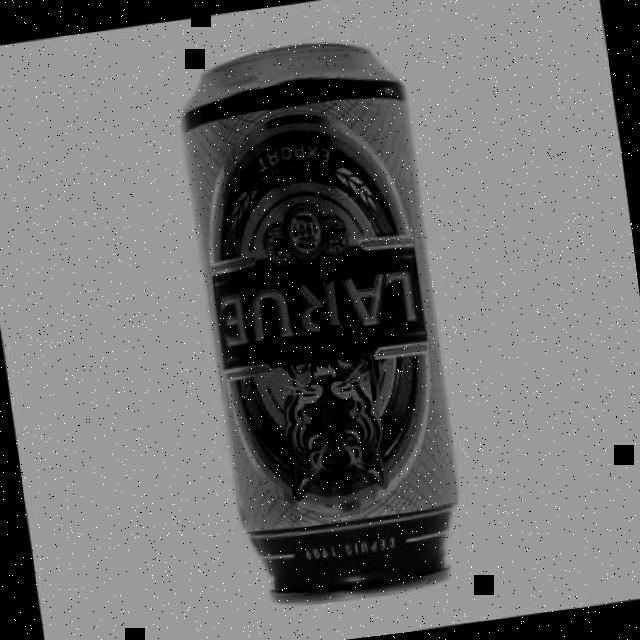can: (165, 16, 479, 622)
